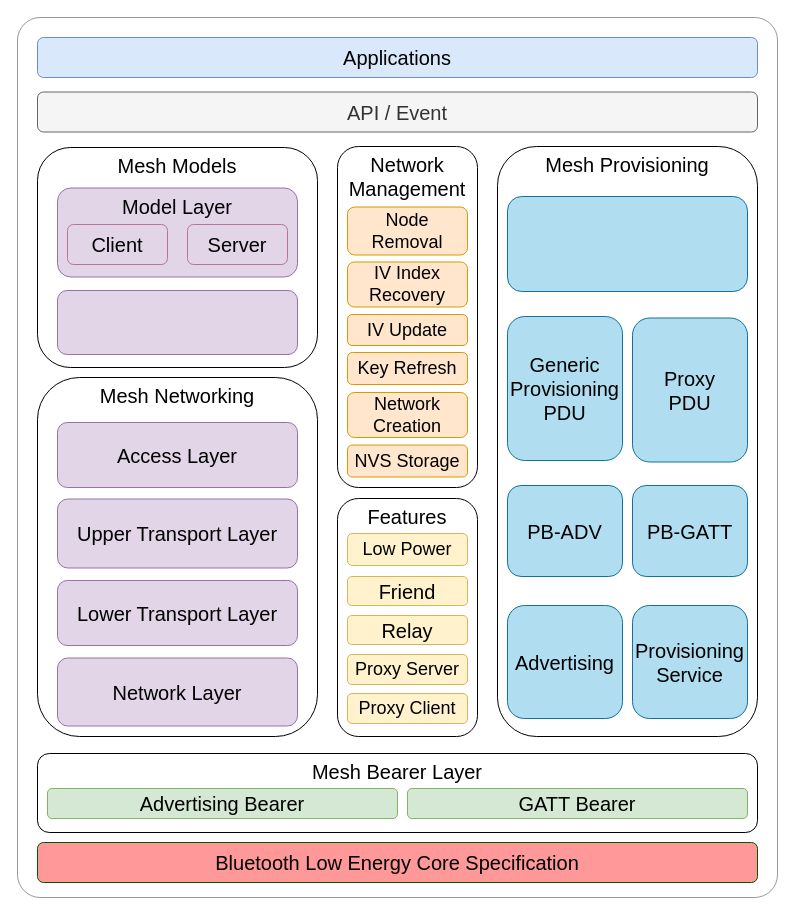
Some shapes in this 795 by 915 pixel diagram are drawn without their labels. Here are the shapes that lost their labels. From the top down, the centre of each, then its label:
(627,244): Provisioning PDUs
(177,322): Foundation Model Layer
